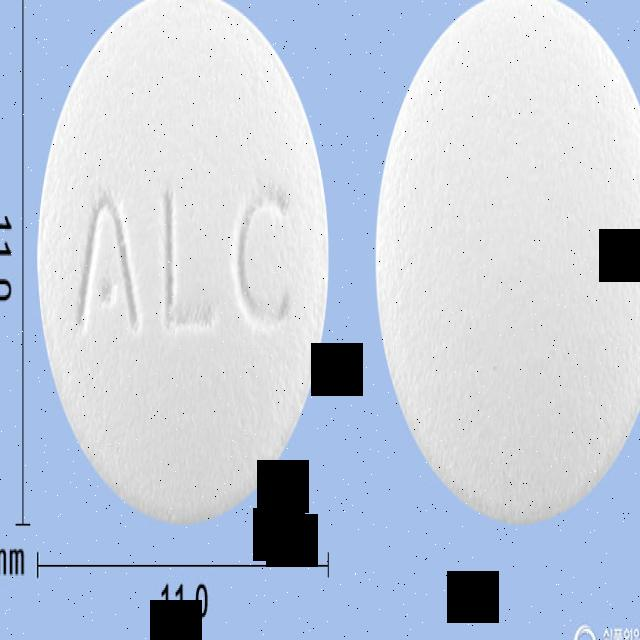Ciprofloxacin Hcl Tab- Arlico: (32, 0, 333, 533)
